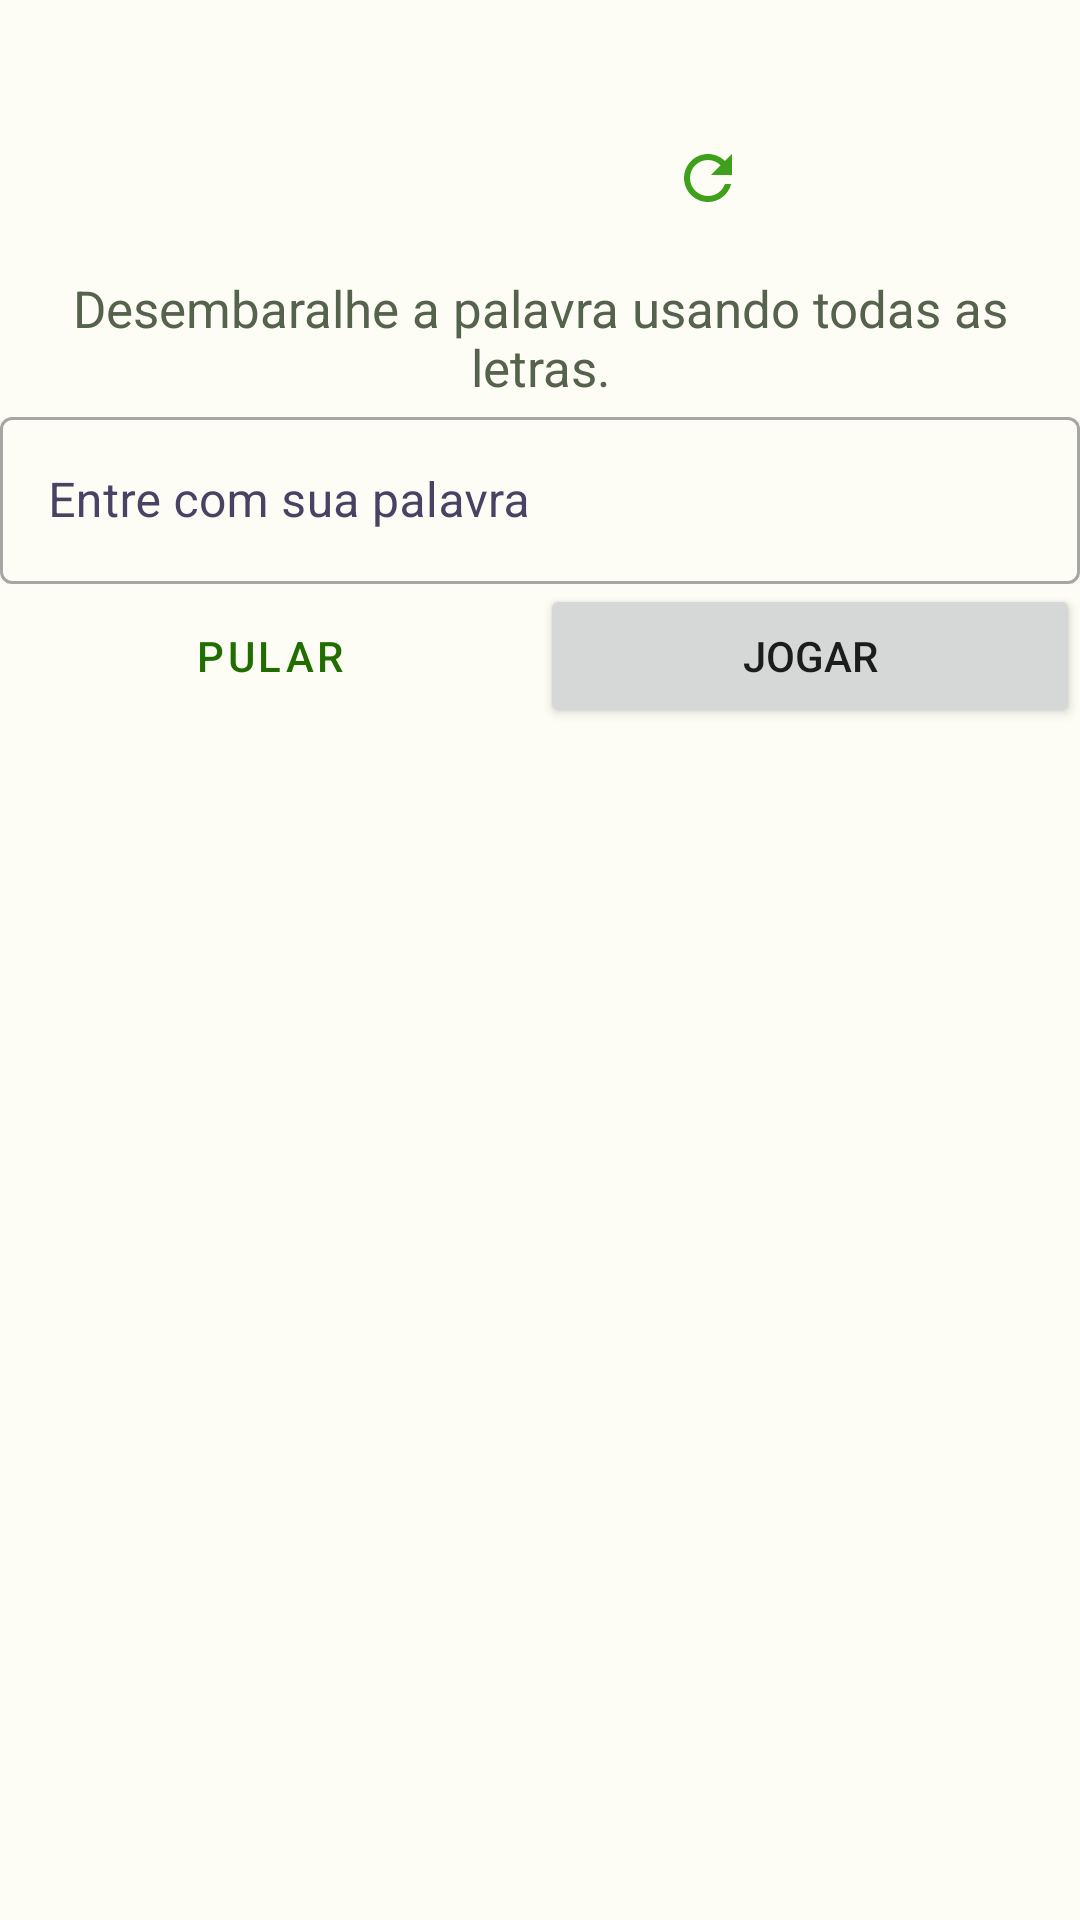

Where to tap for icons on this 1080 × 1920 app screen, as [x,y]:
refresh: [708,178]
